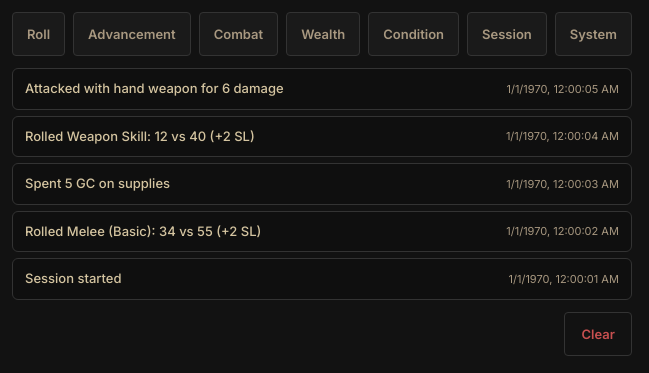
Test: TimelineView › shows all events when no category is selected, and narrows when a chip is toggled
Check: the number of list items is 5, box [12,68,632,110]; [12,116,632,157]; [12,163,632,204]; [12,210,632,252]; [12,258,632,300]
Select "Roll" → only the two roll events remain.
Click the button "Roll": click(38, 34) [12,12,65,56]
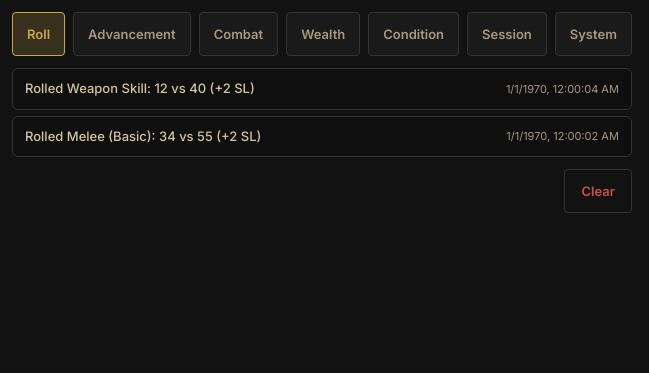
Check: the text "Session started" is gone
Check: the text "Spent 5 GC on supplies" is gone
Check: the text "Attacked with hand weapon for 6 damage" is gone
Toggling the same chip off clears the filter → all shown again.
Click the button "Roll": click(38, 34) [12,12,65,56]
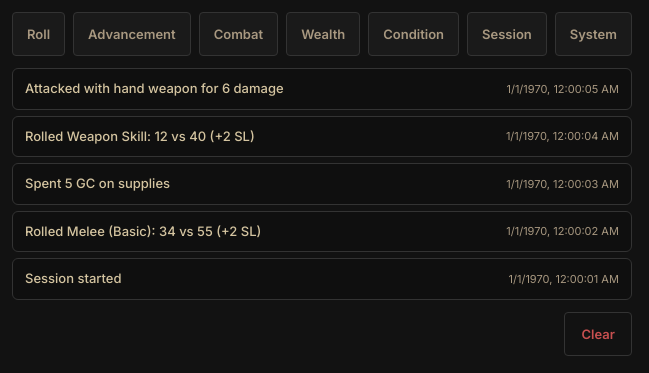
Check: the number of list items is 5, box [12,68,632,110]; [12,116,632,157]; [12,163,632,204]; [12,210,632,252]; [12,258,632,300]
Check: the text "Session started" is shown, box [25,270,122,286]
